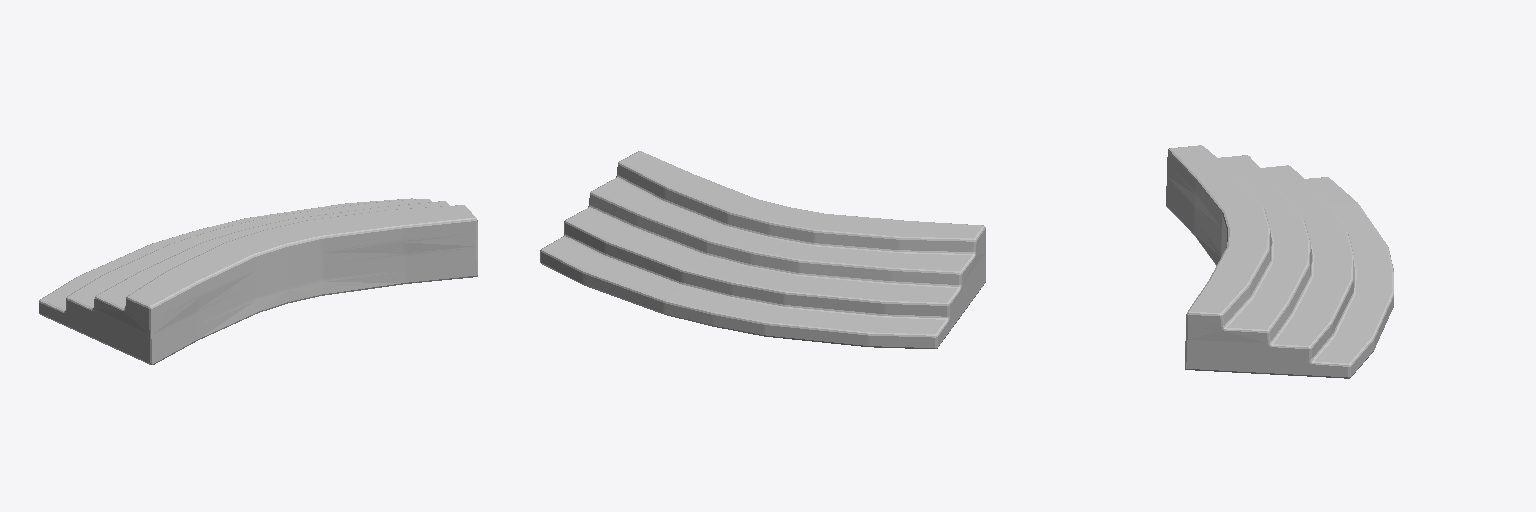
Rendered from stairsS.obj.
The picture shows the model from 3 angles: view 1: azimuth 30°, elevation 25°; view 2: azimuth 150°, elevation 25°; view 3: azimuth 270°, elevation 25°; orthographic projection.
Parts seen in each view (by area): view 1: shoe_full_scene:pCube5; view 2: shoe_full_scene:pCube5; view 3: shoe_full_scene:pCube5.
Boxes of the visible parts, x1,y1,x2,y2 form: shoe_full_scene:pCube5: [39, 198, 477, 364]; shoe_full_scene:pCube5: [540, 151, 985, 348]; shoe_full_scene:pCube5: [1166, 145, 1393, 378].
Size of the model in its own units: 16.88 by 2.45 by 8.65.